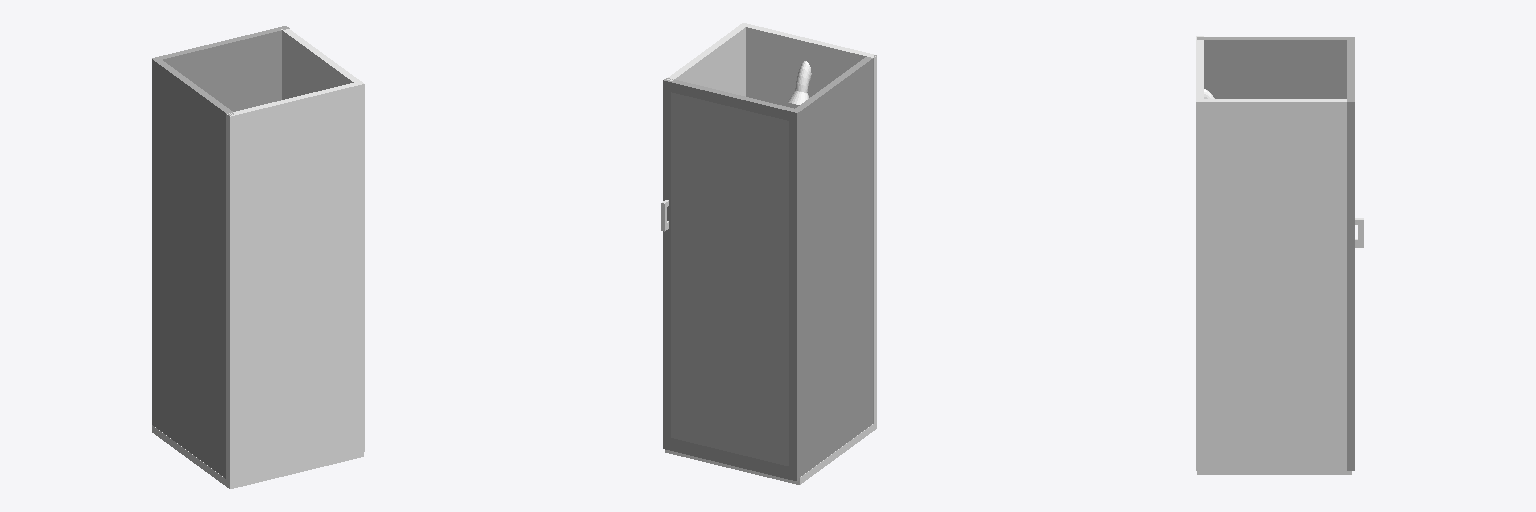
Rendered from shower.obj.
3 views of the same model, side by side, from view 1: azimuth 30°, elevation 25°; view 2: azimuth 150°, elevation 25°; view 3: azimuth 270°, elevation 25° (orthographic).
Parts seen in each view (by area): view 1: Box3, Box2, Box4, Box, Box1; view 2: Box4, Box2, Box3, Box, Box1; view 3: Box, Box2, Box4, Box3, Box1.
Part boxes in pixels (x1,y1,x2,y2): Box3: (226,81,363,484); Box2: (153,60,233,478); Box4: (152,26,289,424); Box: (281,29,364,453); Box1: (152,425,363,488); Box4: (663,78,798,481); Box2: (794,55,876,477); Box3: (740,23,876,423); Box: (667,24,749,96); Box1: (665,422,876,484); Box: (1197,99,1346,467); Box2: (1197,37,1351,98); Box4: (1347,37,1354,470); Box3: (1196,36,1203,470); Box1: (1197,468,1351,474).
Size of the model in its own units: 2.01 by 5.3 by 2.16.